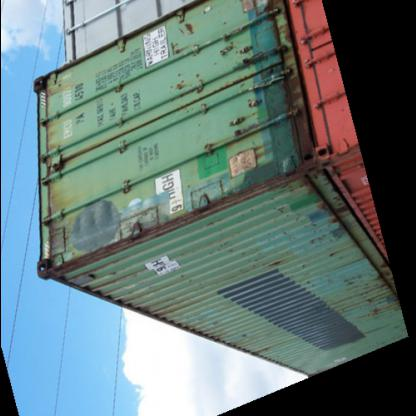Damage: (232, 19, 304, 182), (152, 173, 302, 232), (31, 228, 168, 280)
